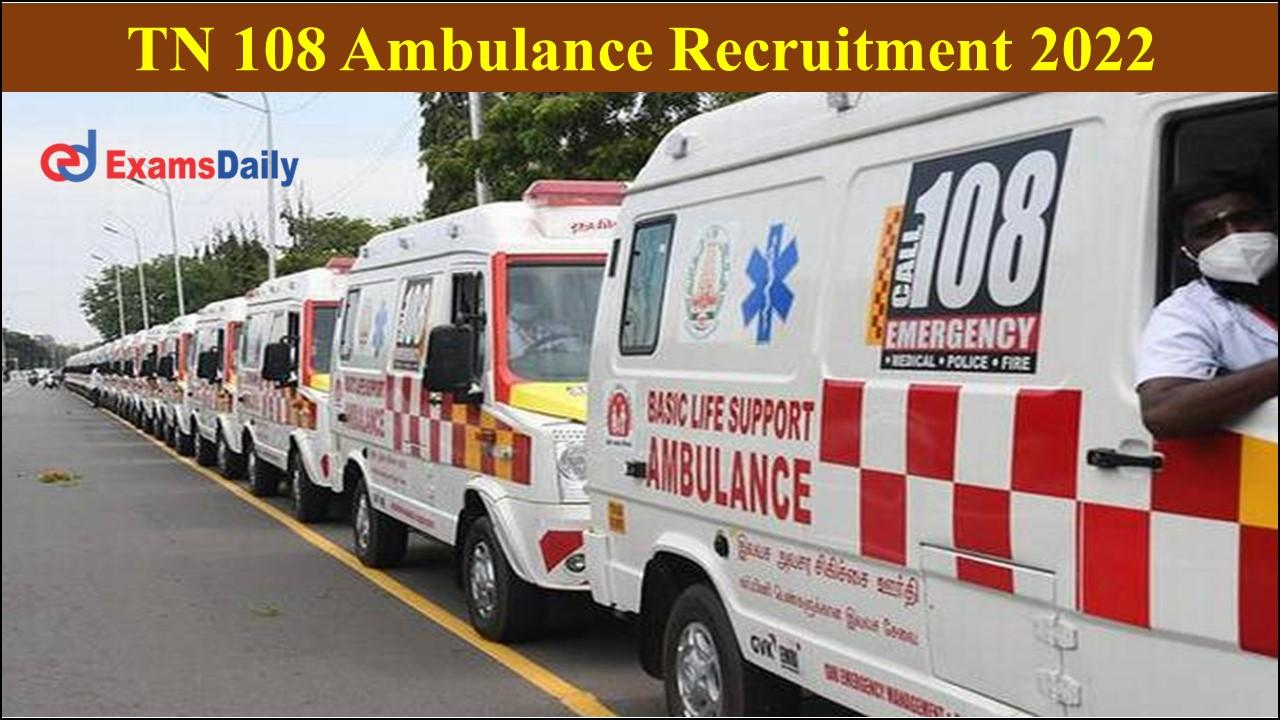ER: (589, 93, 1280, 720), (326, 184, 615, 628), (241, 257, 357, 517), (192, 294, 251, 473), (143, 315, 201, 444)
